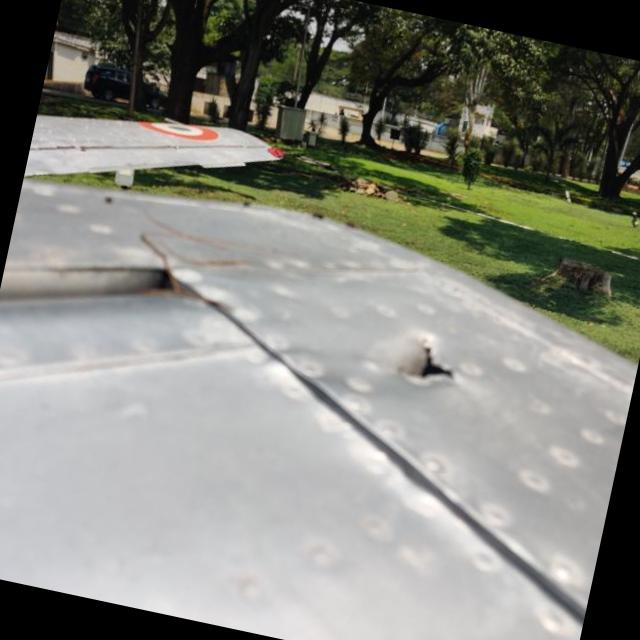Crack: (371, 332, 452, 379)
